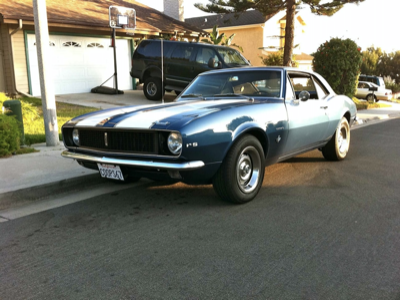licence: (95, 163, 127, 184)
